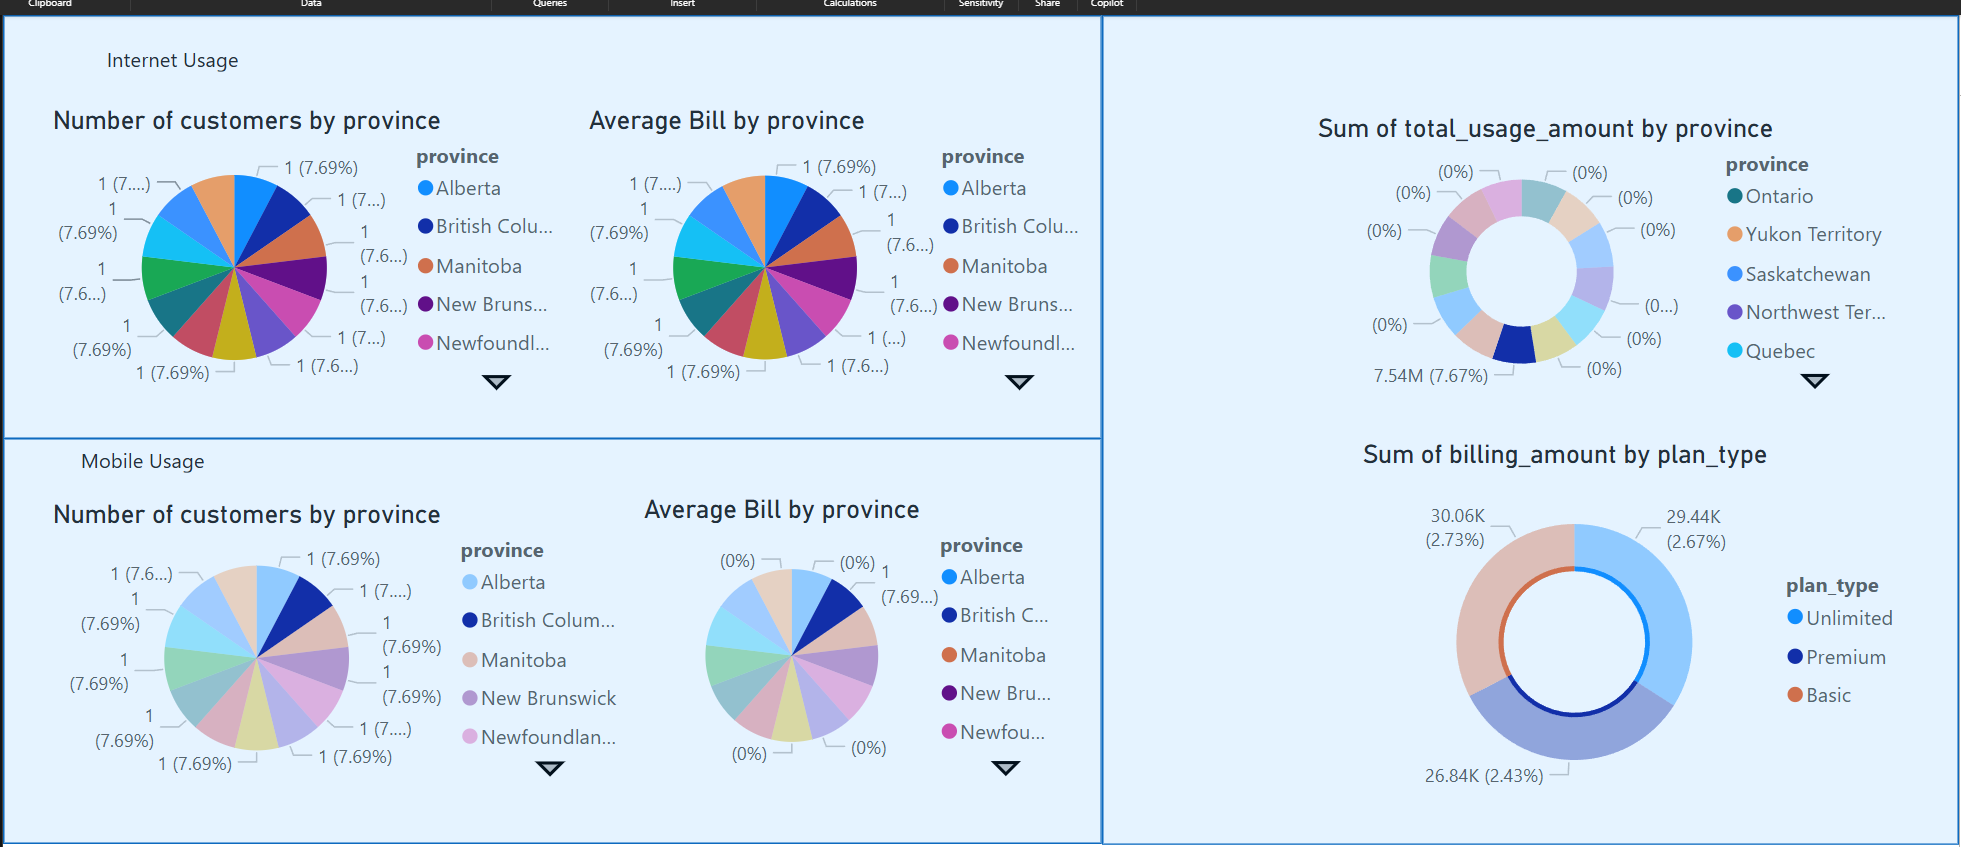

The dashboard page shown, as its layout file describes it:
{"tool":"powerbi","page":{"name":"Page 1","canvas":[1280,720],"ordinal":0},"visuals":[{"type":"donutChart","fields":{"Category":["customer_usage_bill.plan_type"],"Y":["Sum(customer_usage_bill.billing_amount)"]},"box":[884.7,277.5,367.1,246.7],"z":0},{"type":"pieChart","title":"Number of customers by province","fields":{"Category":["internet_customer_prov_count.province"],"Y":["CountNonNull(internet_customer_prov_count.average_bill_amount)"]},"box":[27.5,316.7,392,189.1],"z":1000},{"type":"pieChart","title":"Average Bill by province","fields":{"Category":["cellular_customer_prov_count.province"],"Y":["CountNonNull(cellular_customer_prov_count.average_bill_amount)"]},"box":[378.2,58.9,340.9,193.7],"z":2000},{"type":"pieChart","title":"Number of customers by province","fields":{"Category":["cellular_customer_prov_count.province"],"Y":["CountNonNull(cellular_customer_prov_count.customer_count)"]},"box":[27.5,58.9,350.8,193.7],"z":3000},{"type":"pieChart","title":"Average Bill by province","fields":{"Category":["internet_customer_prov_count.province"],"Y":["CountNonNull(internet_customer_prov_count.average_bill_amount)"]},"box":[414.2,313.5,287.9,192.4],"z":4000},{"type":"donutChart","fields":{"Category":["customer_usage_bill.province"],"Y":["Sum(customer_usage_bill.total_usage_amount)"]},"box":[855.3,64.1,392,188.5],"z":5000},{"type":"textbox","box":[62.8,15.1,140,26.8],"z":5001},{"type":"textbox","box":[45.8,277.5,140,26.8],"z":5002},{"type":"shape","box":[0,0,719.2,277.5],"z":5003},{"type":"shape","box":[0,276.8,719.2,265.7],"z":5004},{"type":"shape","box":[719.2,0,560.8,543.1],"z":5005}]}

Visuals, with their boxes on the page's 1280x720 design canvas (x1, y1, x2, y2). These are canvas units, not pixel positions in the 1961x847 screenshot, which may show the page scaled, cropped or inside an application window:
donutChart - customer_usage_bill.plan_type x Sum(customer_usage_bill.billing_amount): [left=885, top=278, right=1252, bottom=524]
"Number of customers by province" pieChart: [left=28, top=317, right=420, bottom=506]
"Average Bill by province" pieChart: [left=378, top=59, right=719, bottom=253]
"Number of customers by province" pieChart: [left=28, top=59, right=378, bottom=253]
"Average Bill by province" pieChart: [left=414, top=314, right=702, bottom=506]
donutChart - customer_usage_bill.province x Sum(customer_usage_bill.total_usage_amount): [left=855, top=64, right=1247, bottom=253]
textbox: [left=63, top=15, right=203, bottom=42]
textbox: [left=46, top=278, right=186, bottom=304]
shape: [left=0, top=0, right=719, bottom=278]
shape: [left=0, top=277, right=719, bottom=542]
shape: [left=719, top=0, right=1280, bottom=543]
